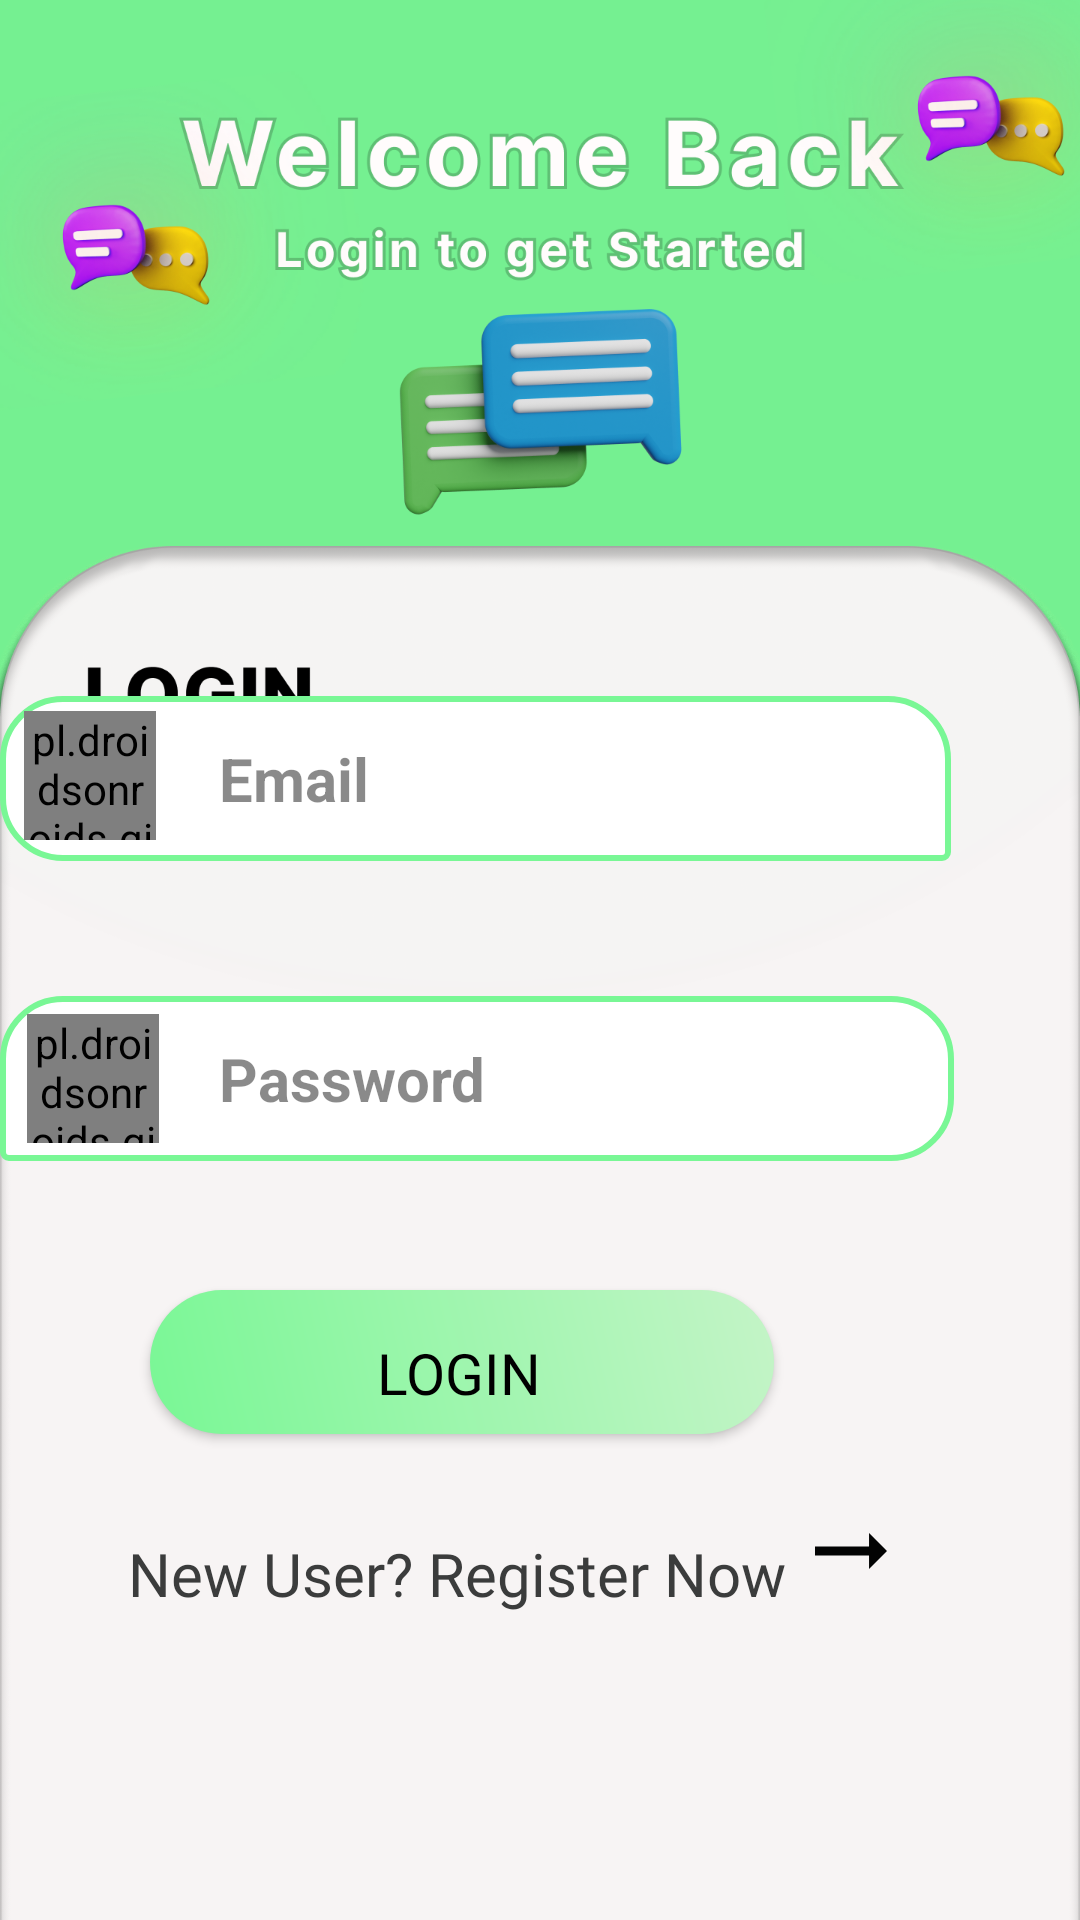

Named icons in this screenshot (1080 x 1920) and their bounding boxes, (x1, y1, x2, y2):
arrow right: (815, 1533, 887, 1569)
